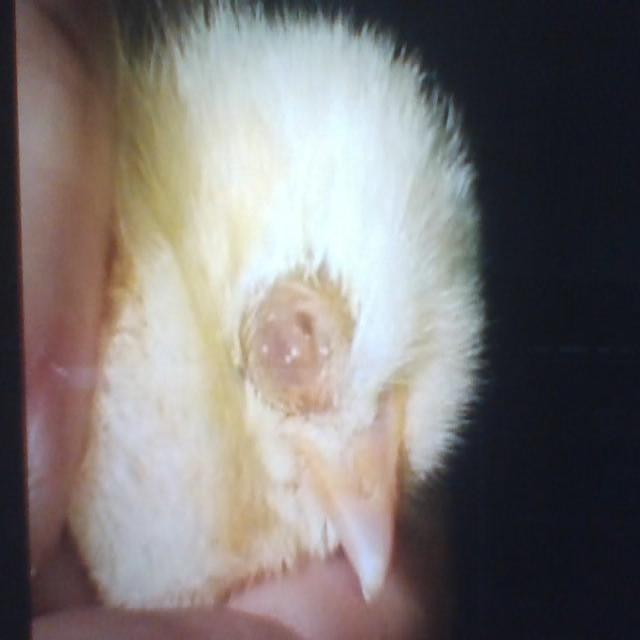Sick: (44, 18, 481, 616)
